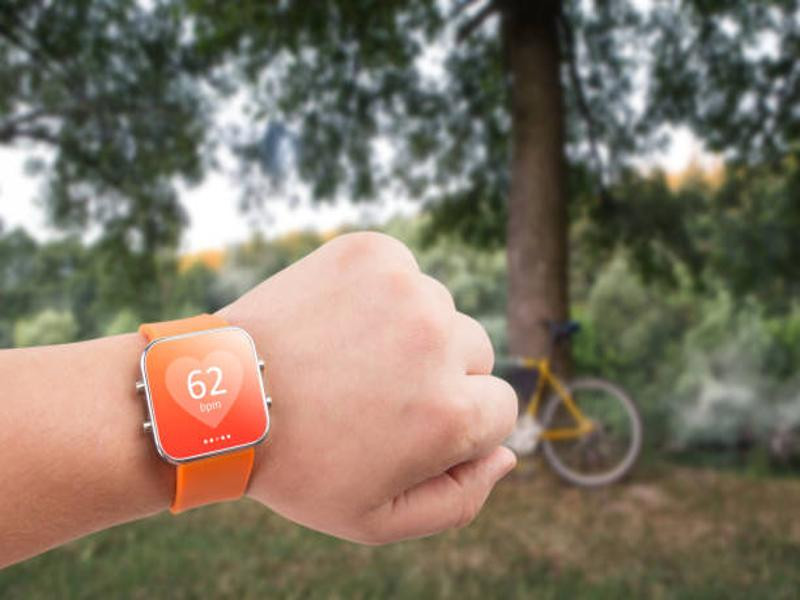watch: (139, 313, 274, 519)
